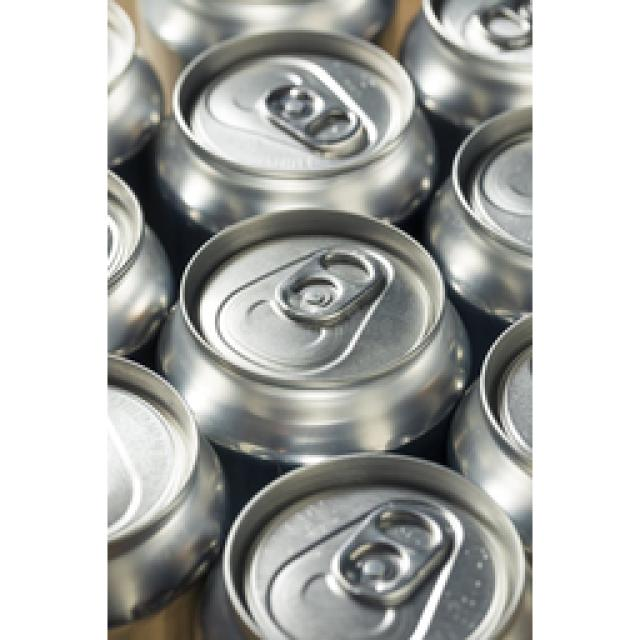aluminum_soda_cans: (167, 212, 473, 448), (220, 450, 525, 640), (167, 40, 440, 198)
